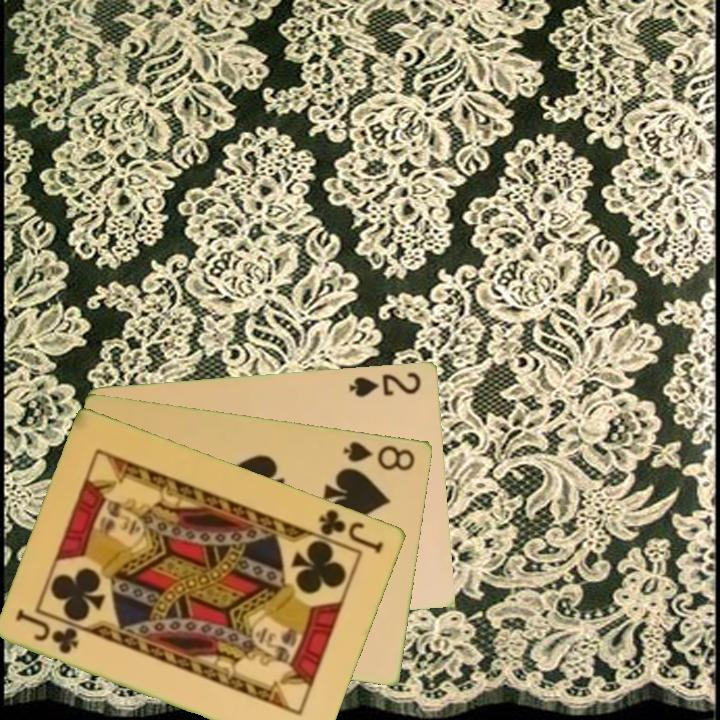2s: (345, 368, 425, 400)
8s: (340, 437, 418, 474)
Jc: (315, 505, 387, 556), (12, 606, 83, 657)
